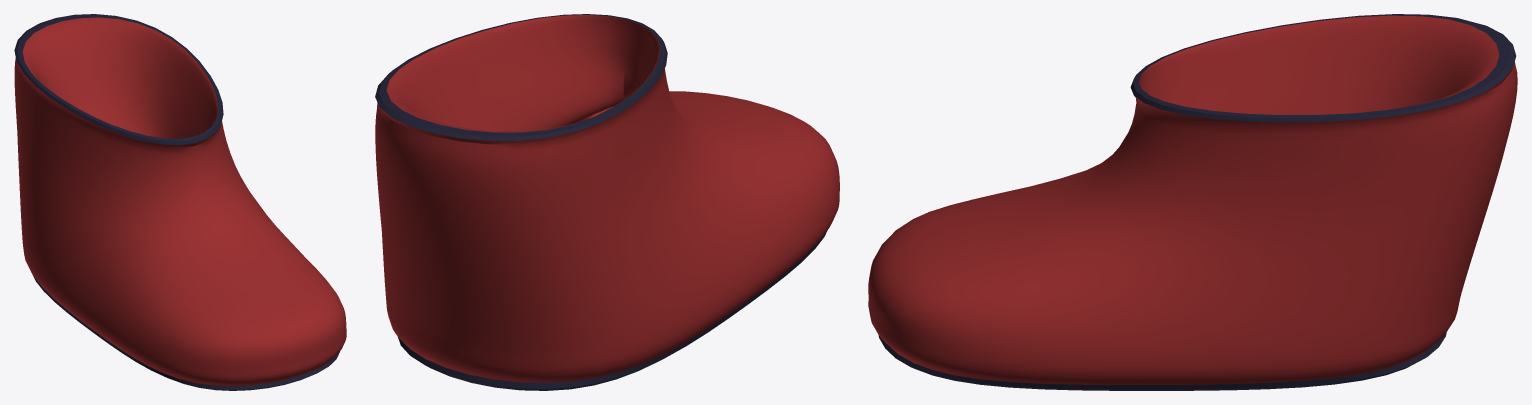
The model's file is валенок.fbx.
3 renders of one model, left to right at view 1: azimuth 30°, elevation 25°; view 2: azimuth 150°, elevation 25°; view 3: azimuth 270°, elevation 25°, orthographic. The views are drawn at different scales.
Parts seen in each view (by area): view 1: Cube.002; view 2: Cube.002; view 3: Cube.002.
Part boxes in pixels (bbox=[...]): Cube.002: bbox=[14, 14, 346, 390]; Cube.002: bbox=[375, 14, 839, 390]; Cube.002: bbox=[868, 14, 1517, 390].
Bounding box in the file's own units: 29.69 × 29.23 × 60.69.
